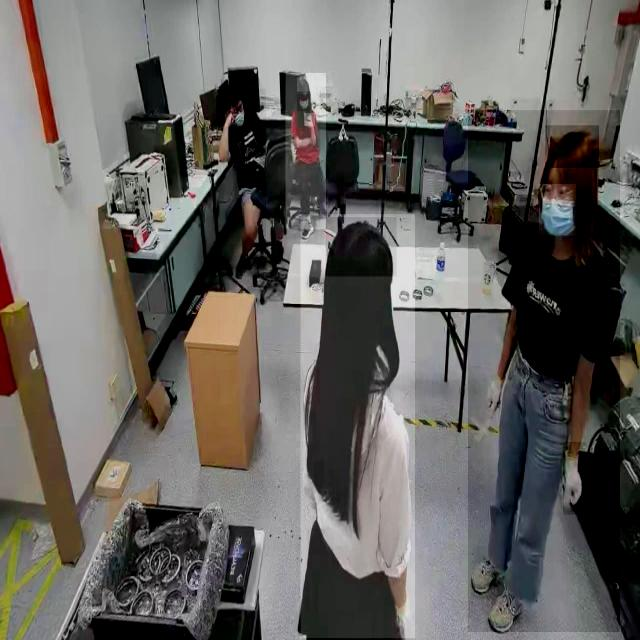face_mask: (539, 184, 576, 236), (232, 106, 246, 129), (297, 94, 309, 111)
hand_glove: (562, 442, 586, 516), (484, 374, 502, 419)
hand_noglove: (224, 109, 234, 127), (303, 113, 315, 127)
head_nohelmet: (325, 217, 397, 277), (545, 125, 599, 169), (225, 85, 245, 102), (297, 78, 311, 92)
person: (468, 110, 620, 633), (300, 214, 415, 639), (216, 89, 266, 270), (285, 73, 326, 229)
shoes: (487, 579, 530, 632), (470, 550, 506, 594)
